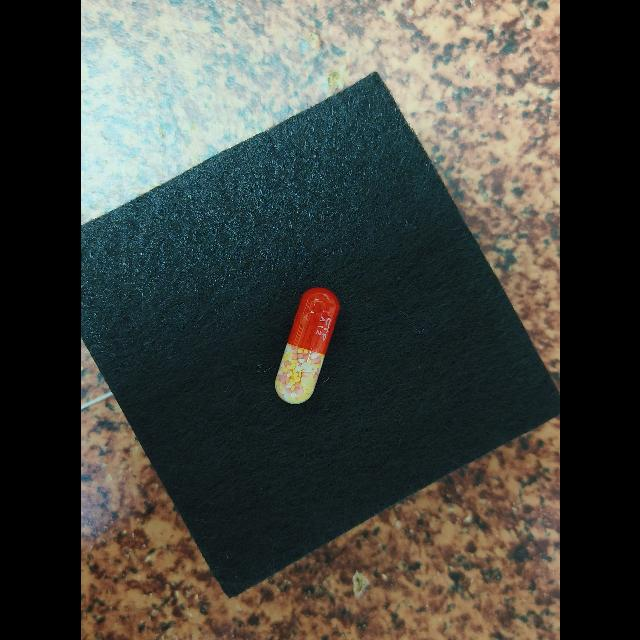Intact Capsule: (274, 287, 339, 404)
